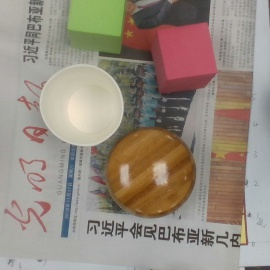chess: (105, 127, 195, 220)
cup: (40, 64, 124, 146)
